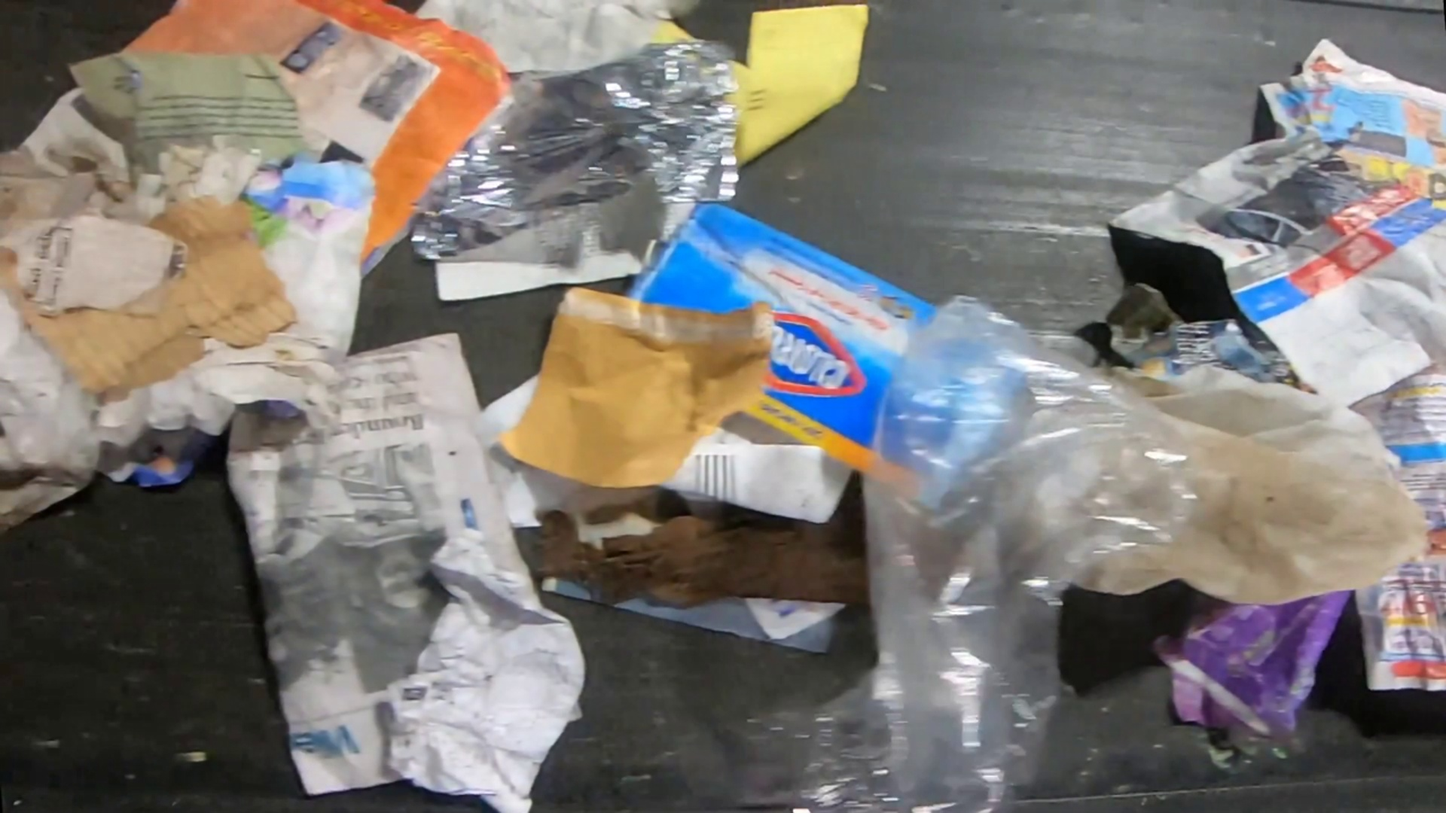cardboard: (0, 194, 299, 405)
plastic: (722, 293, 1183, 811), (1072, 361, 1429, 607), (409, 42, 736, 260)
